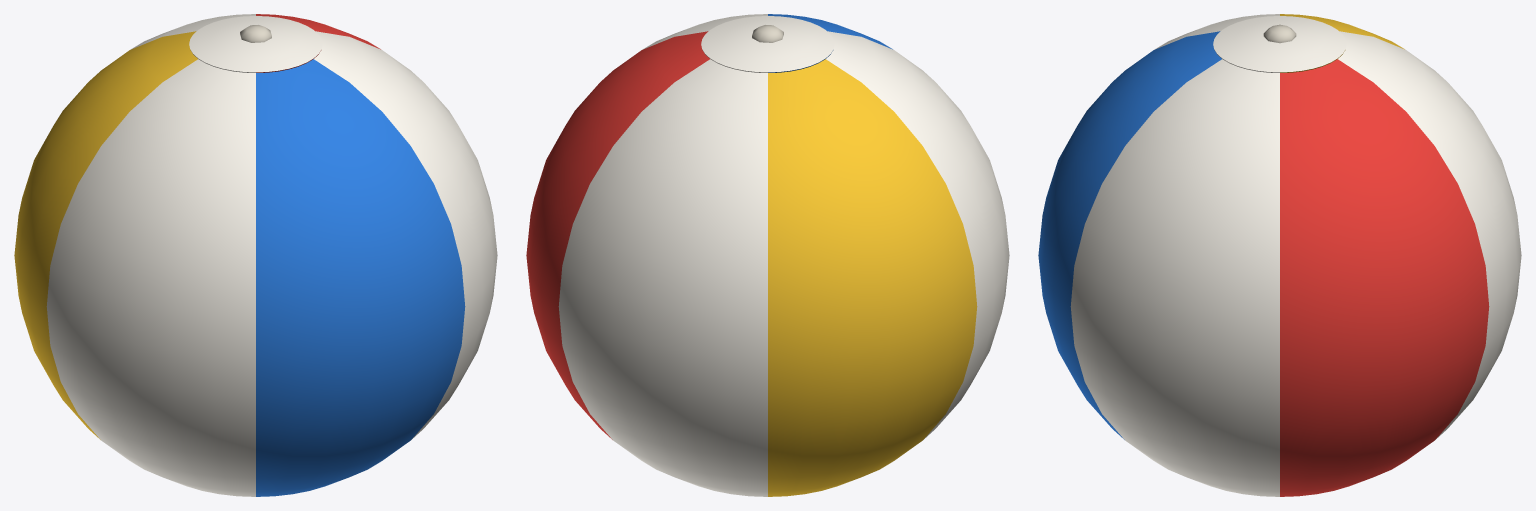
File: ball_beach.glb
3 views of the same model, side by side, from view 1: azimuth 30°, elevation 25°; view 2: azimuth 150°, elevation 25°; view 3: azimuth 270°, elevation 25° (orthographic).
Visible parts, largest first — view 1: Ball; view 2: Ball; view 3: Ball.
Boxes of the visible parts, x1=… form: Ball: x1=14, y1=14, x2=497, y2=496; Ball: x1=526, y1=14, x2=1009, y2=496; Ball: x1=1038, y1=14, x2=1521, y2=496.
Bounding box in the file's own units: 1.4 × 1.43 × 1.4.
